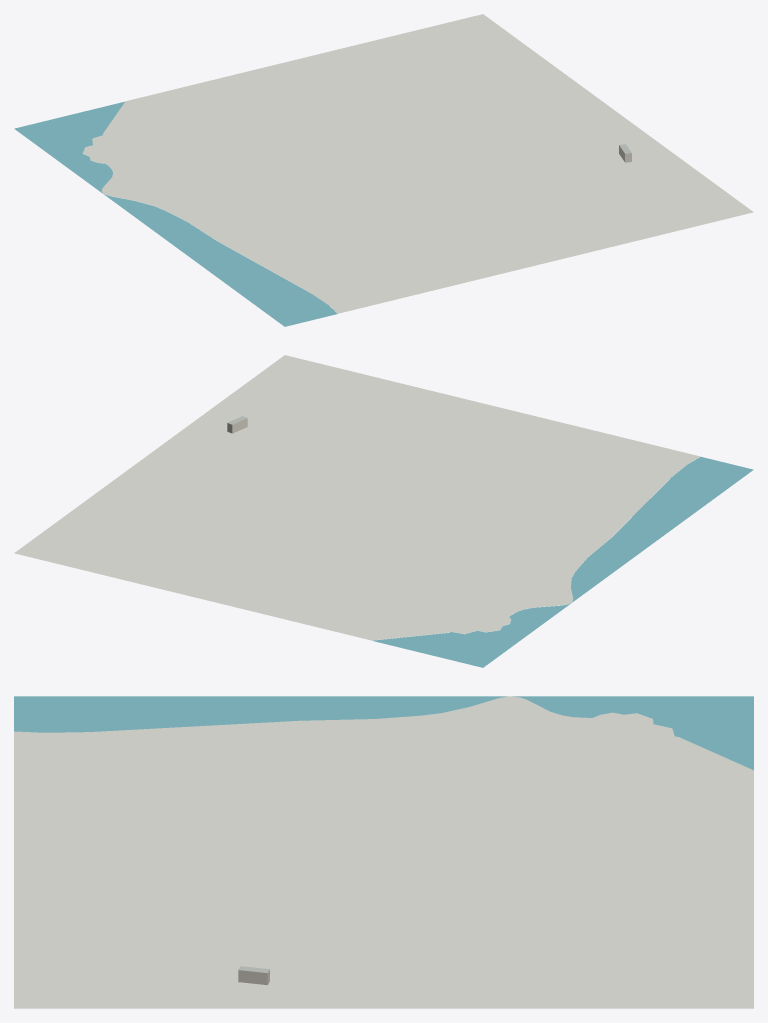
The picture shows the model from 3 angles, top to bottom: view 1: azimuth 30°, elevation 25°; view 2: azimuth 150°, elevation 25°; view 3: azimuth 270°, elevation 25°; orthographic projection. The views are drawn at different scales.
Parts seen in each view (by area): view 1: city; view 2: city; view 3: city.
Part boxes in pixels (bbox=[...]): city: bbox=[14, 14, 753, 326]; city: bbox=[14, 355, 753, 667]; city: bbox=[14, 696, 753, 1008].
Size of the model in its own units: 500 by 9.18 by 500.
